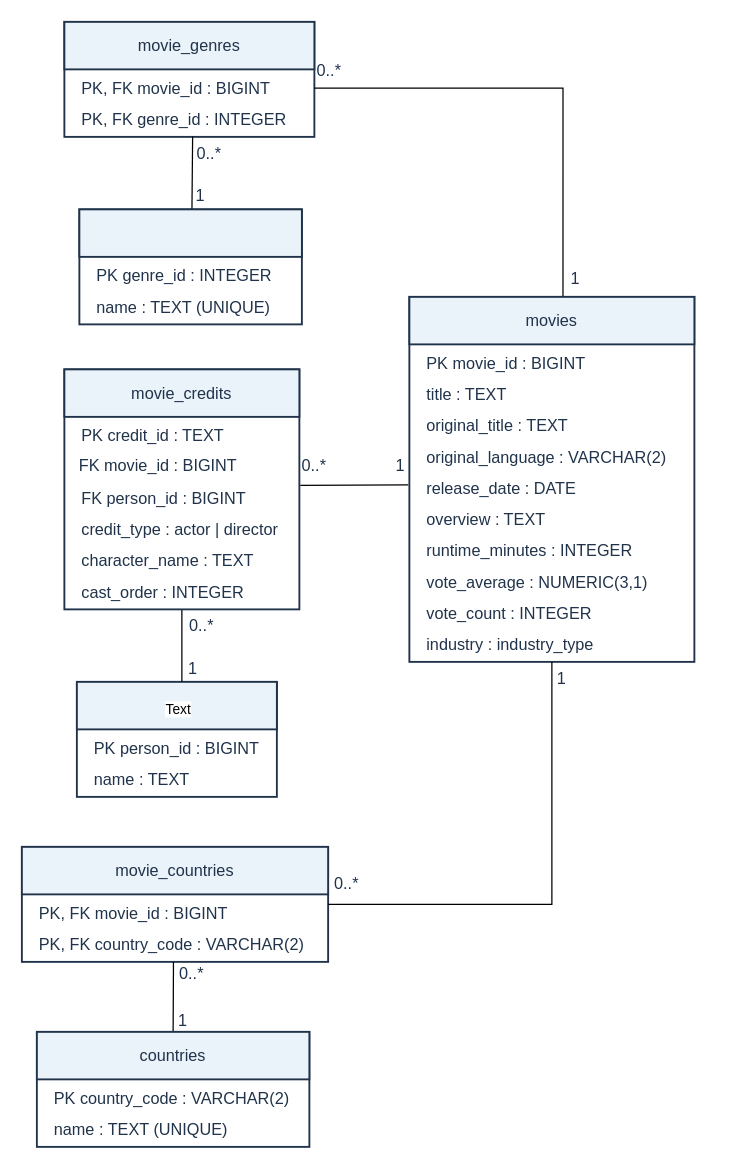
This 735x1170 diagram has some shape labels left out. Here are the shapes that lost their labels. From the top down, the centre of each, then its label:
(190,232): genres
(176,705): people
